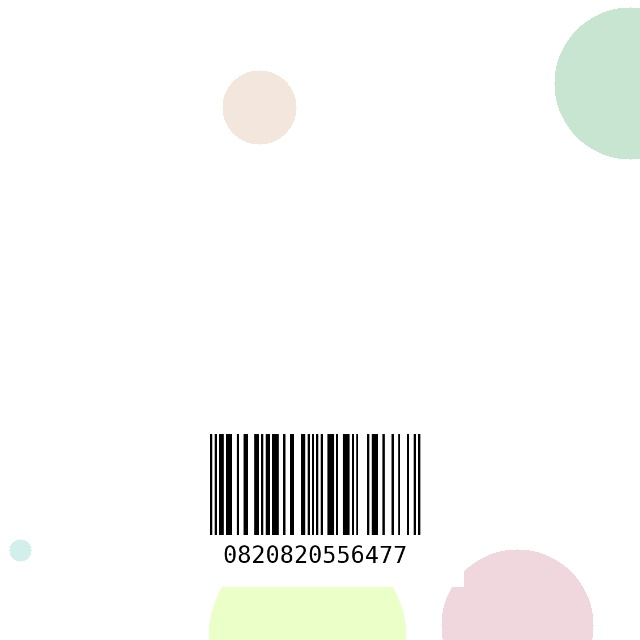barcode: (167, 428, 464, 587)
